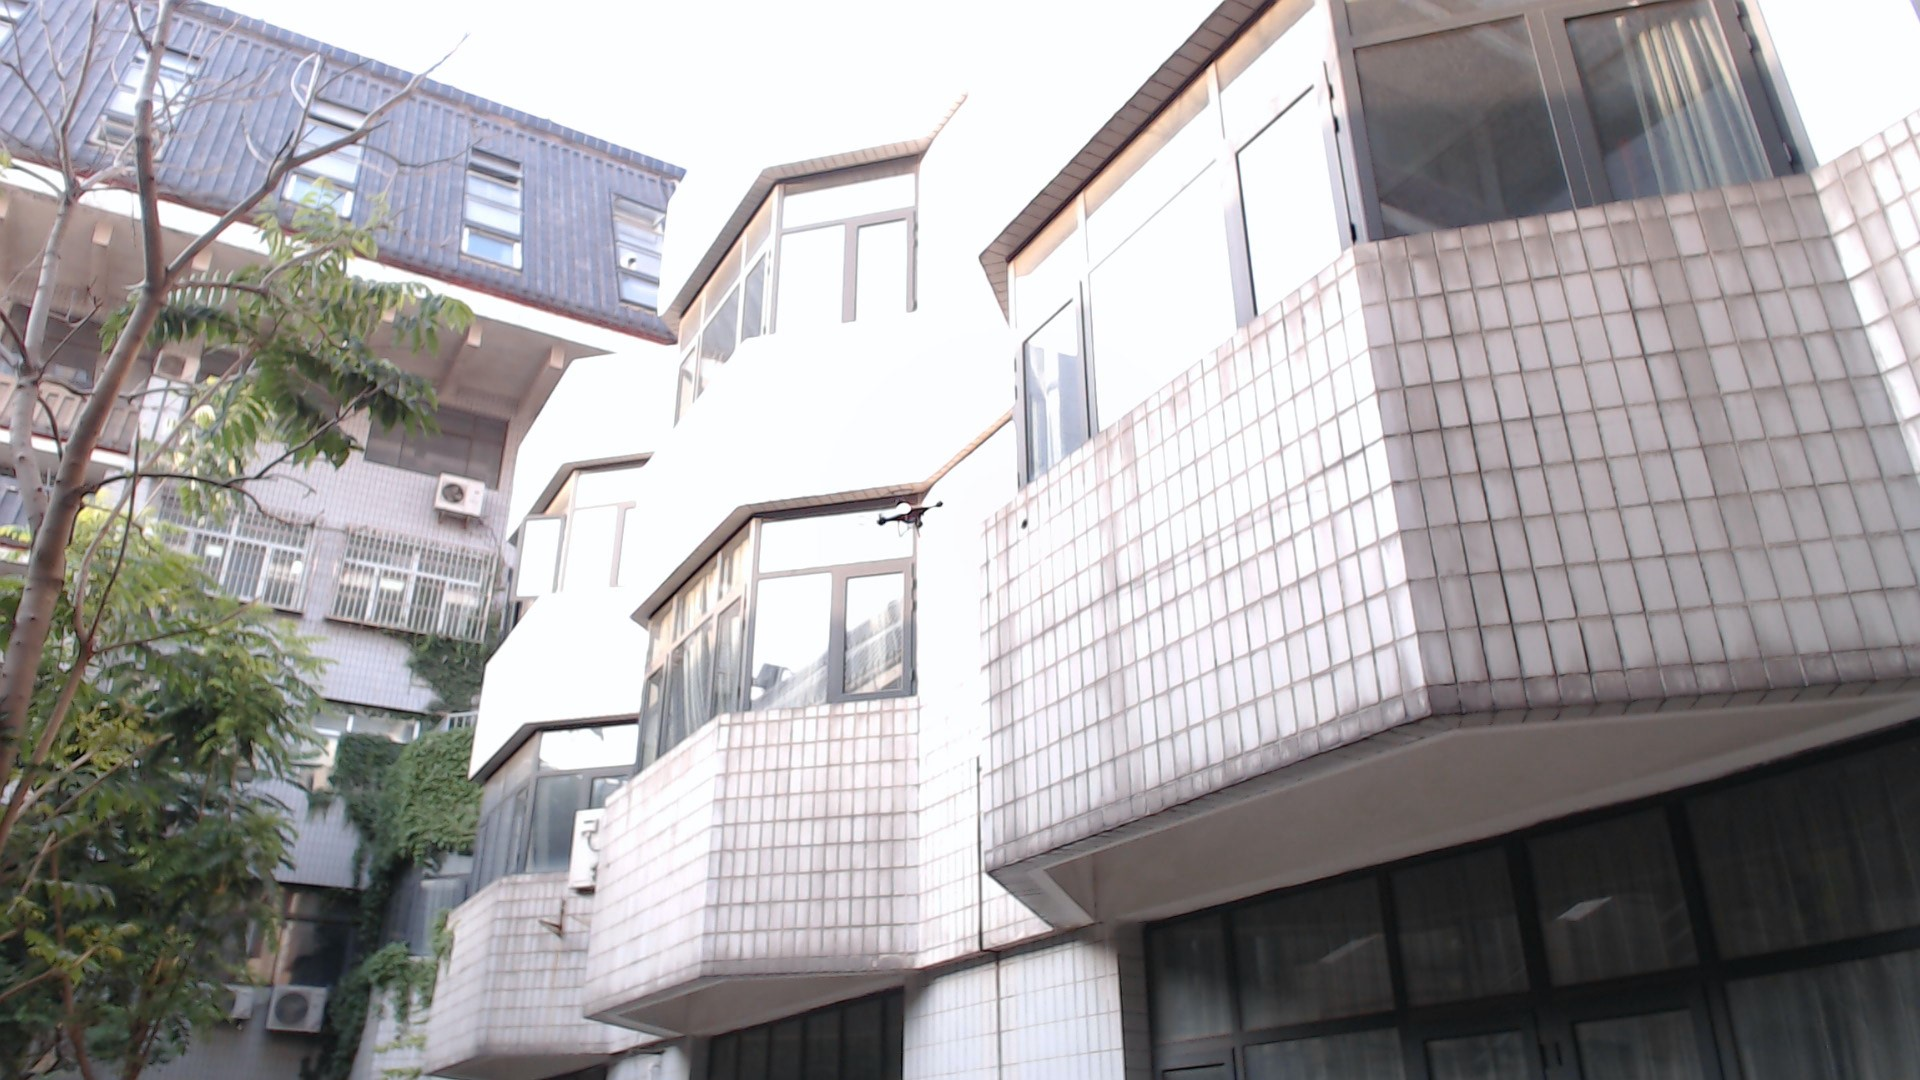drone: (849, 465, 963, 562)
